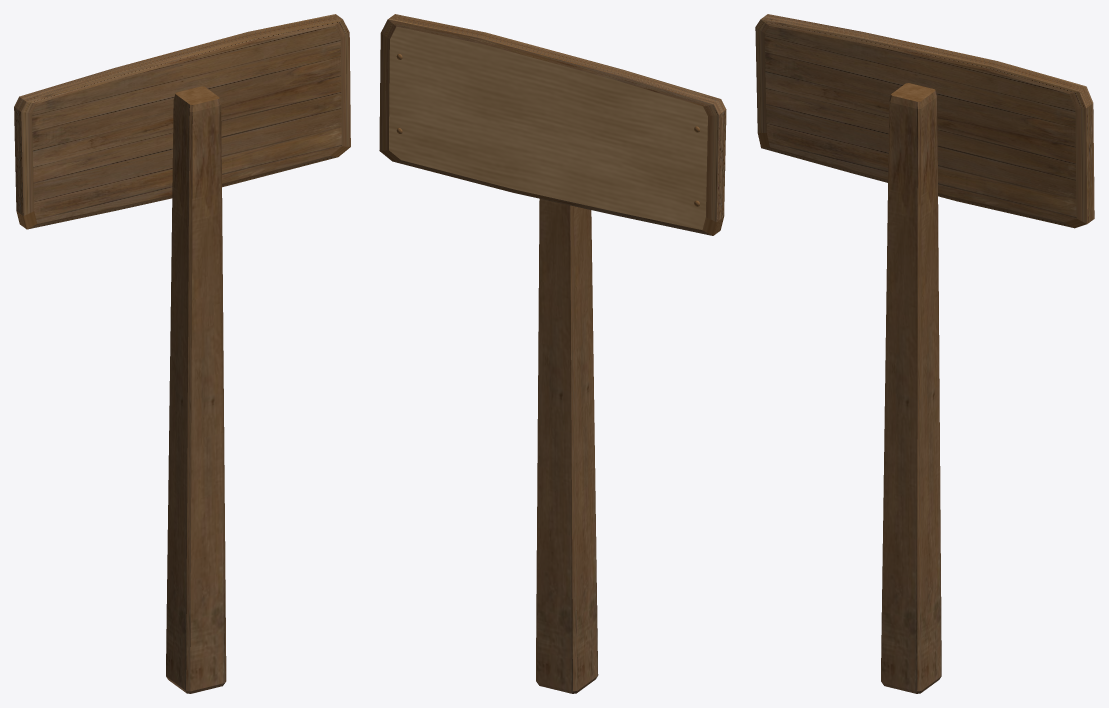
The model's file is wood_sign.glb.
3 views of the same model, side by side, from view 1: azimuth 30°, elevation 25°; view 2: azimuth 150°, elevation 25°; view 3: azimuth 330°, elevation 25° (orthographic). The views are drawn at different scales.
Visible parts, largest first — view 1: wood_sign; view 2: wood_sign; view 3: wood_sign.
Part boxes in pixels (left/top/right/bottom): wood_sign: left=14, top=14, right=350, bottom=693; wood_sign: left=379, top=14, right=726, bottom=693; wood_sign: left=755, top=14, right=1094, bottom=693.
Size of the model in its own units: 0.58 by 1.04 by 0.0922.
3 materials, 3 textured.
